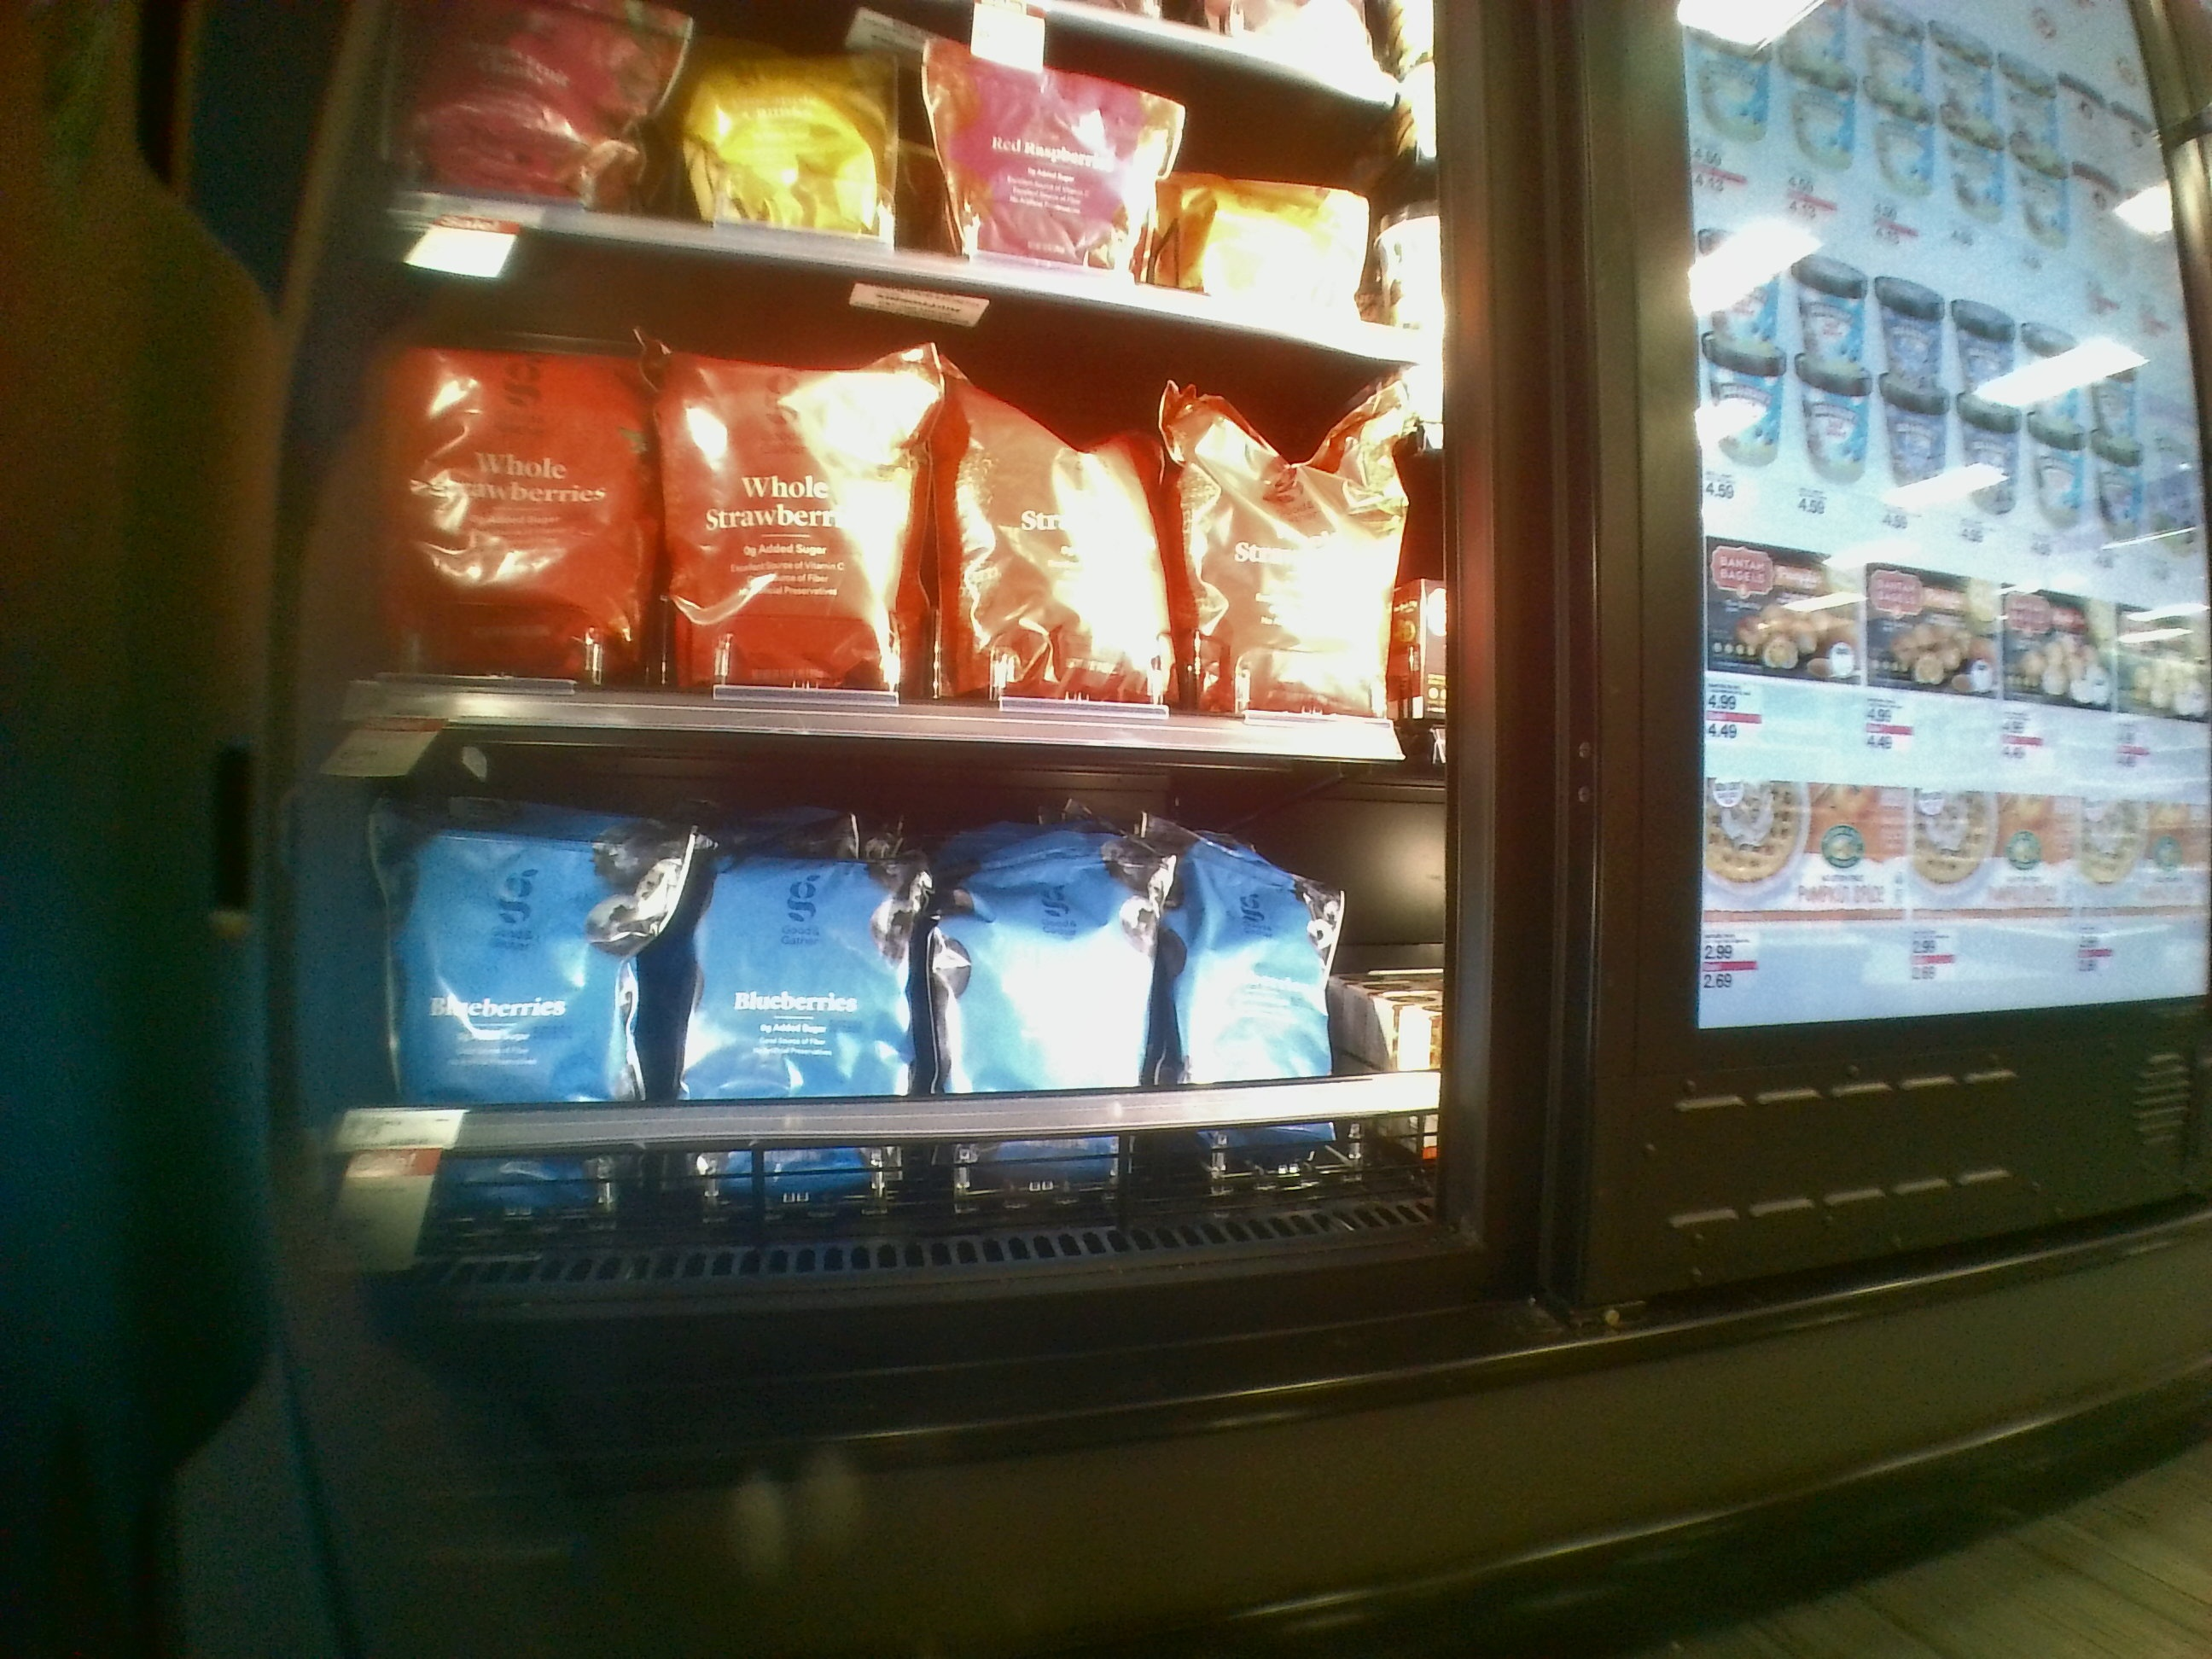shelf: (350, 751, 1439, 1243), (350, 296, 1413, 746)
